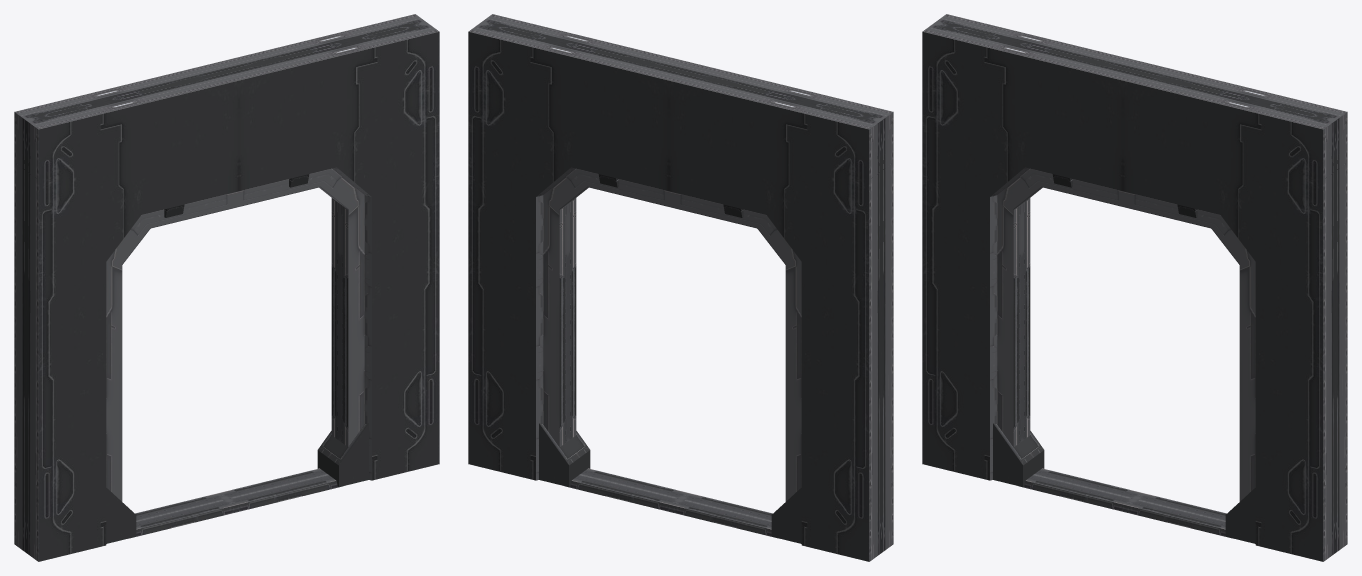
File: Door_Frame_Square.gltf
3 views of the same model, side by side, from view 1: azimuth 30°, elevation 25°; view 2: azimuth 150°, elevation 25°; view 3: azimuth 330°, elevation 25° (orthographic).
Visible parts, largest first — view 1: Door_Frame_Square; view 2: Door_Frame_Square; view 3: Door_Frame_Square.
Boxes of the visible parts, x1,y1,x2,y2 form: Door_Frame_Square: (14,14,439,561); Door_Frame_Square: (468,14,893,561); Door_Frame_Square: (922,14,1347,561).
Bounding box in the file's own units: 4.85 × 5.01 × 0.5068.
1 material, 1 textured.
